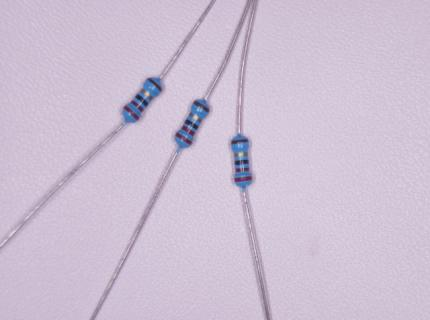Black band: (135, 94, 150, 107), (184, 118, 200, 130), (234, 160, 249, 166)
Brown band: (146, 77, 163, 93), (193, 100, 210, 113), (231, 139, 249, 144)
Gold band: (140, 88, 155, 101), (188, 112, 203, 124), (234, 151, 248, 158)
Red band: (123, 105, 141, 121), (176, 132, 194, 146), (180, 124, 195, 137), (129, 100, 145, 112), (234, 176, 252, 182), (235, 167, 250, 173)
